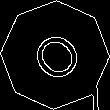O_SE: (22, 22, 88, 88)
